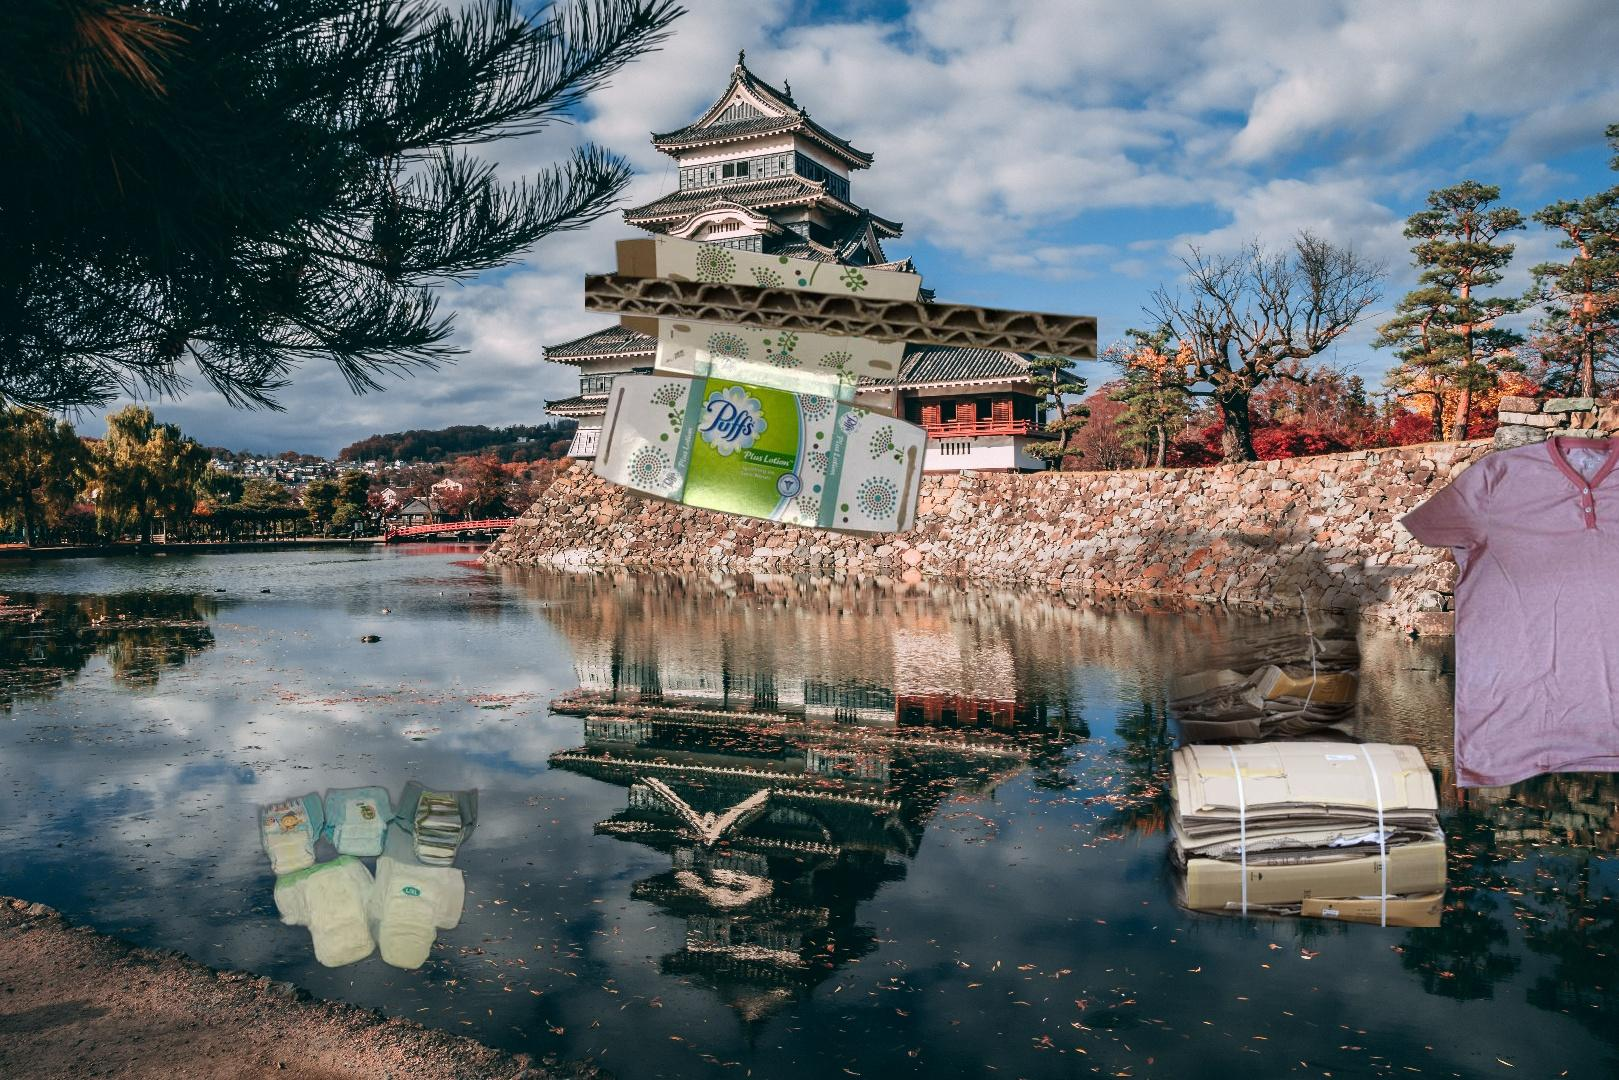clothes: (1398, 430, 1619, 796)
paper: (587, 230, 933, 542)
trash: (254, 777, 479, 973)
trashbox-cardboard: (659, 483, 1463, 927), (585, 270, 1097, 365)
